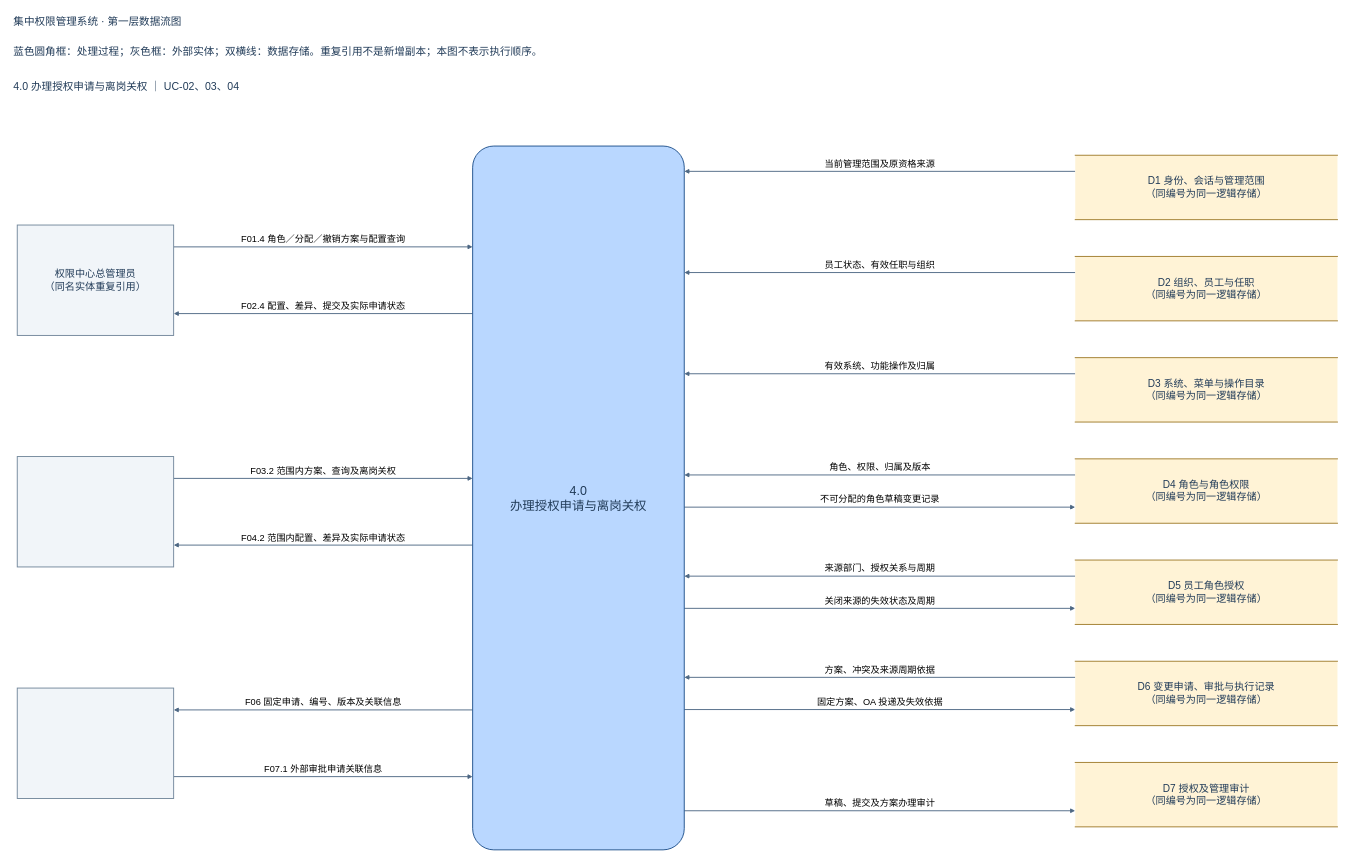
The diagram is 1368 pixels wide and 858 high, and some of its shapes have lost their labels. Each missing label, with the centre of its shape:
"OA 系统 （同名实体重复引用）" belongs at pixel 95 743.
"权限管理员 （同名实体重复引用）" belongs at pixel 95 511.
